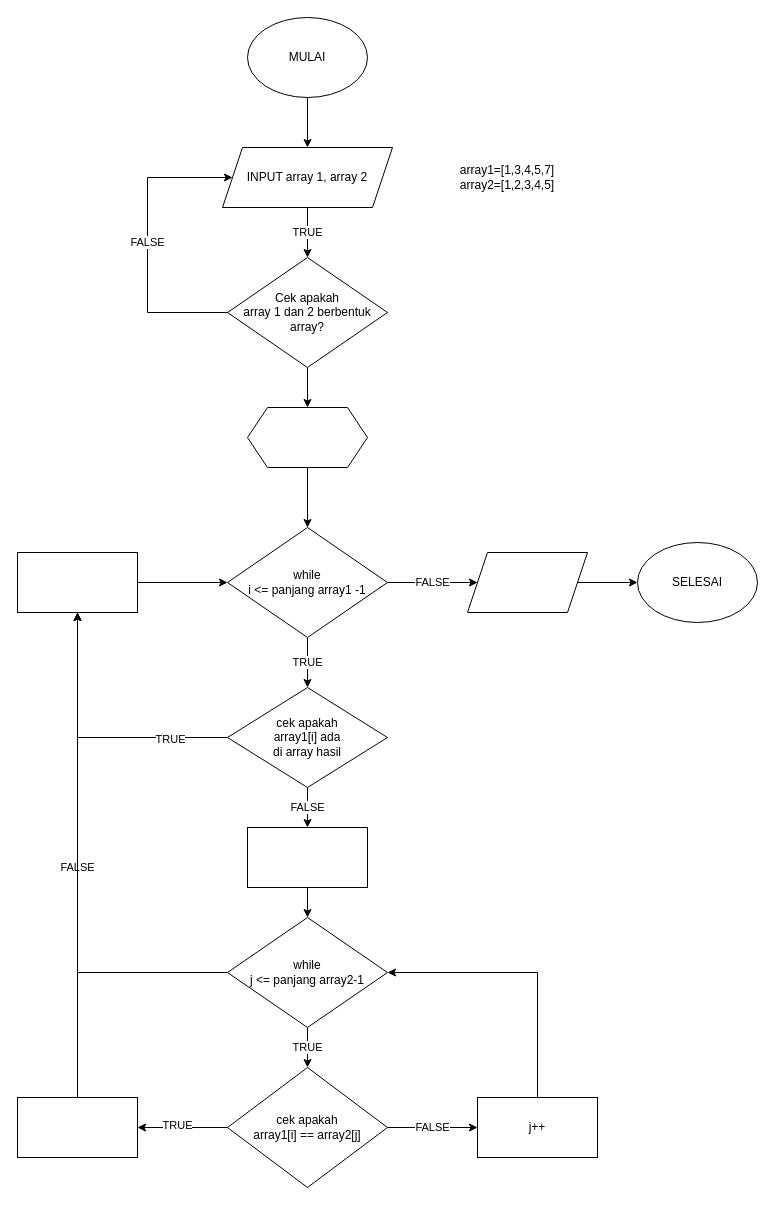
This 775x1205 diagram has some shape labels left out. The box of each missing label's shape, as (x1, y1, x2, y2) in pixels:
Cetak array hasil: (466, 552, 588, 612)
i = 0 j= 0 hasil = []: (246, 406, 368, 468)
i++: (16, 552, 138, 612)
j = 0: (246, 826, 368, 888)
masukkan ke array hasil: (16, 1096, 138, 1158)
